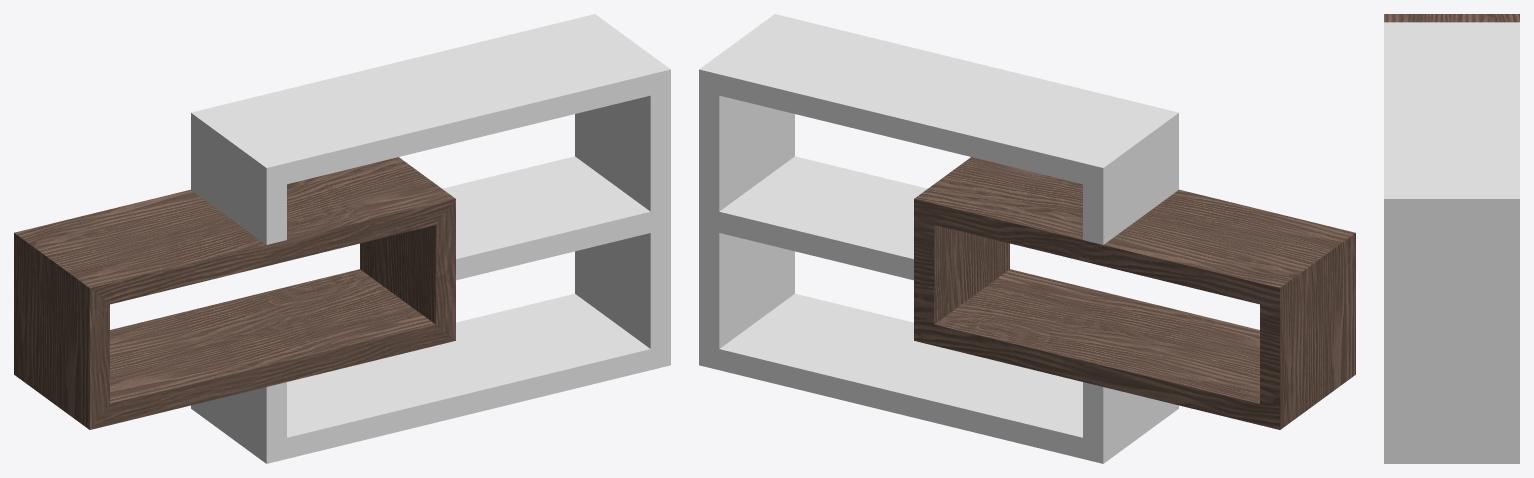
File: shelf_008.fbx
The picture shows the model from 3 angles, left to right: view 1: azimuth 30°, elevation 25°; view 2: azimuth 150°, elevation 25°; view 3: azimuth 270°, elevation 25°; orthographic projection. The views are drawn at different scales.
Visible parts, largest first — view 1: shelf_008; view 2: shelf_008; view 3: shelf_008.
Part boxes in pixels (x1,y1,x2,y2): shelf_008: (14,14,670,463); shelf_008: (699,14,1355,463); shelf_008: (1384,14,1519,463).
Bounding box in the file's own units: 180 × 40.65 × 87.61.
